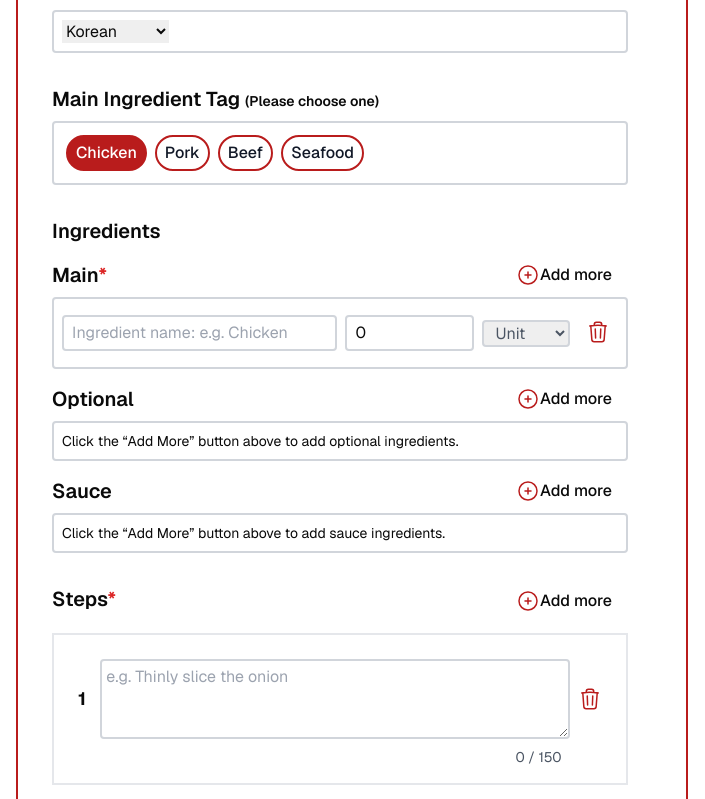
Test: RecipeForm › Should display more "optional ingredients" inputs when the "Add more" button is clicked
(page scrolled)
Expected: the field with placeholder "Ingredient name: e.g. Onion" is not shown
Click the button with aria-label "add more optional ingredient input button".
click(564, 399)  # box [508,385,620,413]
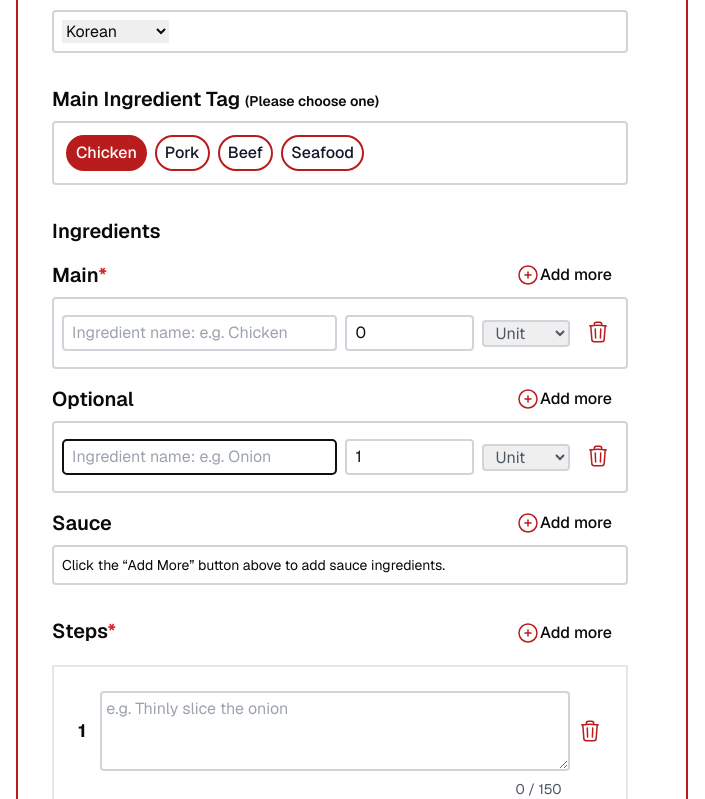
Result: the number of fields with placeholder "Ingredient name: e.g. Onion" is 1 at [62,439,337,475]
